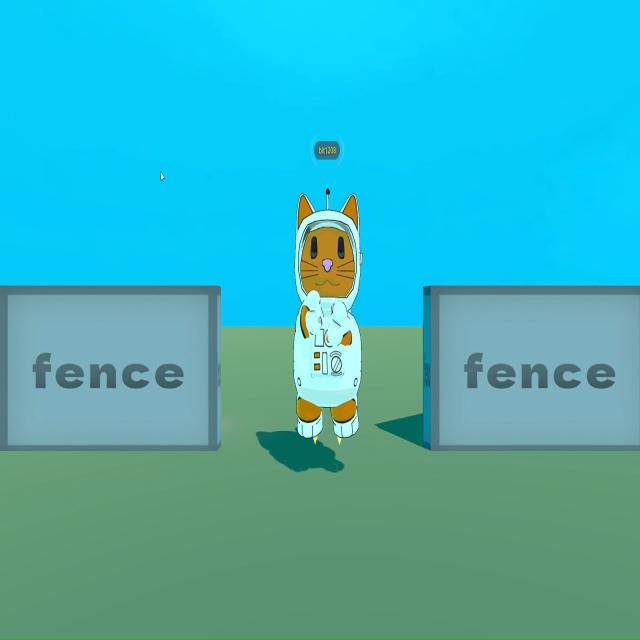human: (292, 188, 364, 445)
